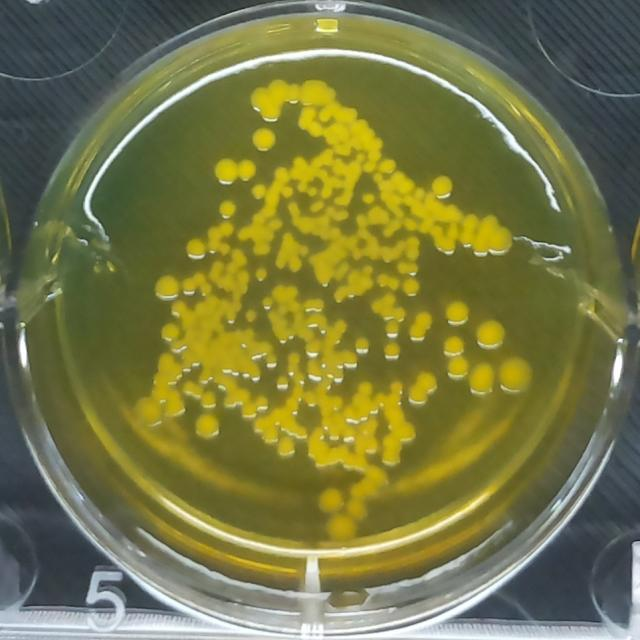vibrio: (494, 348, 538, 398), (210, 153, 258, 190), (467, 358, 498, 400), (408, 369, 442, 407), (475, 316, 508, 352), (406, 308, 436, 344), (442, 296, 472, 328), (429, 170, 457, 202), (316, 482, 344, 514), (152, 272, 181, 302), (193, 411, 222, 441), (250, 126, 280, 154), (444, 355, 471, 382), (183, 236, 209, 263), (442, 335, 466, 358), (276, 435, 298, 460), (352, 333, 373, 357), (158, 321, 180, 343), (382, 341, 404, 362), (218, 197, 238, 220), (402, 276, 422, 298), (169, 298, 189, 318), (180, 276, 198, 297), (250, 182, 268, 201), (252, 265, 270, 283), (273, 164, 289, 184), (244, 306, 260, 324), (274, 374, 290, 392), (258, 294, 274, 311), (360, 191, 376, 206), (280, 184, 294, 200)
